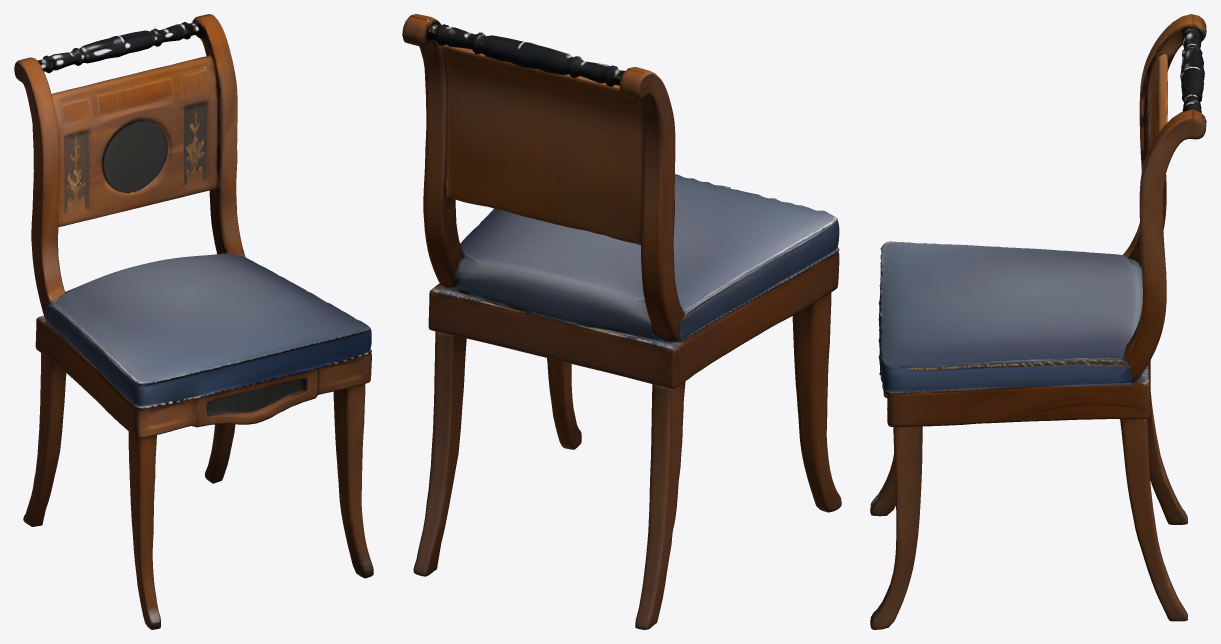
3 views of the same model, side by side, from view 1: azimuth 30°, elevation 25°; view 2: azimuth 150°, elevation 25°; view 3: azimuth 270°, elevation 25° (orthographic). The views are drawn at different scales.
Visible parts, largest first — view 1: root.0, root.2, root.1, root.4, root.3, root.5, root.7, root.6; view 2: root.0, root.2, root.1, root.5, root.3, root.6, root.7, root.4; view 3: root.2, root.0, root.1, root.4, root.6, root.5, root.7, root.3.
Boxes of the visible parts, x1,y1,x2,y2 form: root.0: [14, 14, 245, 318]; root.2: [45, 253, 371, 409]; root.1: [35, 315, 371, 438]; root.4: [333, 384, 373, 578]; root.3: [128, 432, 160, 629]; root.5: [23, 353, 66, 526]; root.7: [37, 22, 199, 73]; root.6: [205, 424, 235, 483]; root.0: [402, 14, 685, 341]; root.2: [442, 174, 839, 342]; root.1: [428, 251, 839, 388]; root.5: [635, 381, 685, 629]; root.3: [792, 293, 841, 512]; root.6: [413, 331, 466, 576]; root.7: [427, 24, 625, 86]; root.4: [547, 358, 581, 449]; root.2: [878, 241, 1142, 394]; root.0: [1122, 14, 1206, 379]; root.1: [883, 360, 1150, 426]; root.4: [870, 426, 922, 629]; root.6: [1120, 419, 1187, 621]; root.5: [1147, 392, 1187, 524]; root.7: [1180, 27, 1204, 112]; root.3: [870, 453, 895, 516].
Bounding box in the file's own units: 0.4419 × 0.82 × 0.4934.
Materials: 8 (8 with a texture image).
